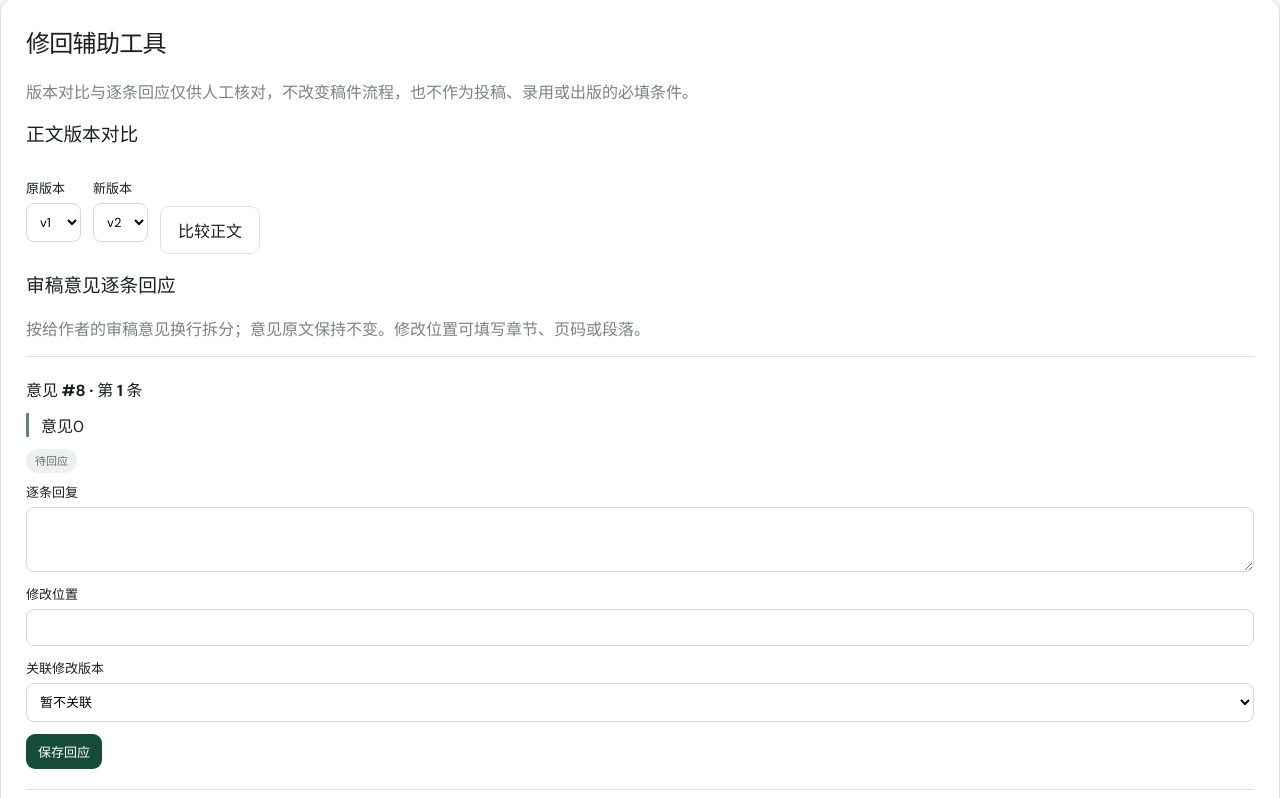
Test: saves one response without discarding another unsaved response
This screenshot has width=1280, height=798.
In the text box labelled "逐条回复": (640, 540) [26, 507, 1254, 572], type "我的回复0"
(page scrolled)
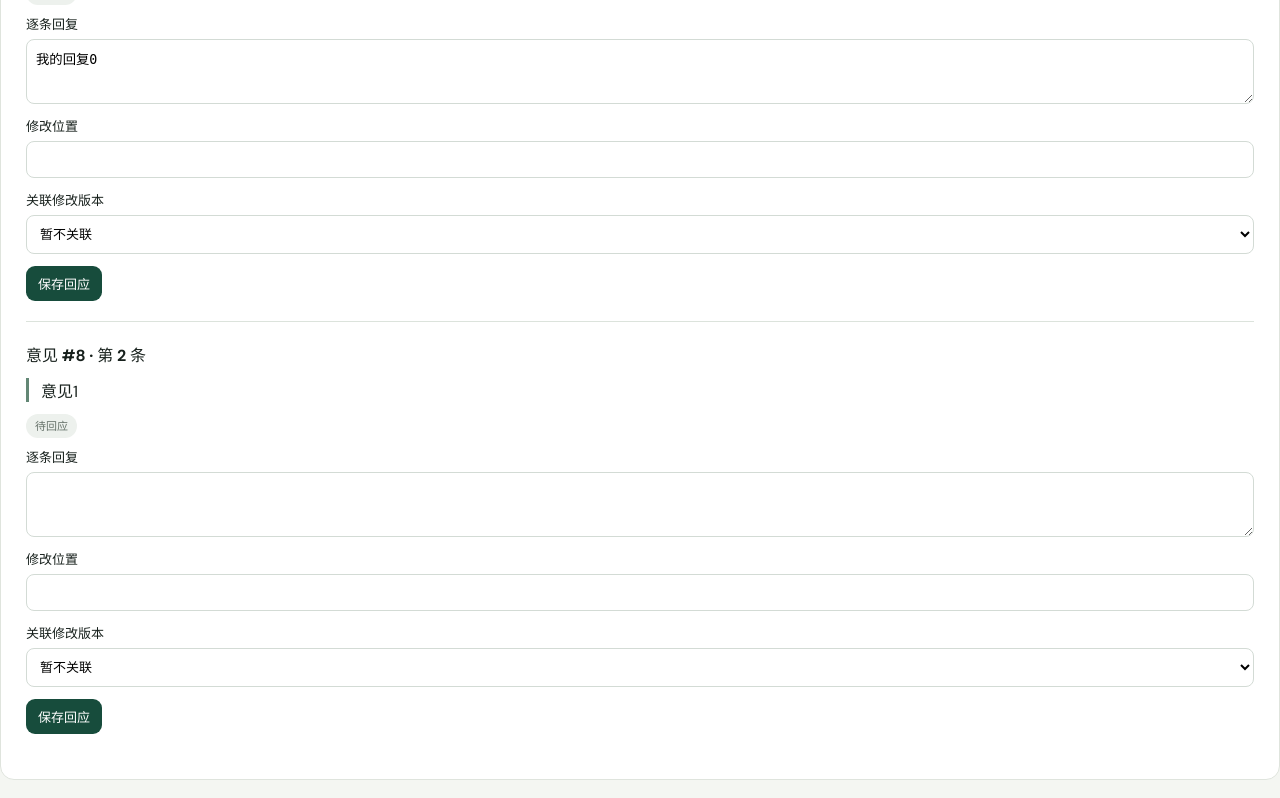
In the text box labelled "逐条回复" below "意见1": (640, 505) [26, 472, 1254, 537], type "我的回复1"
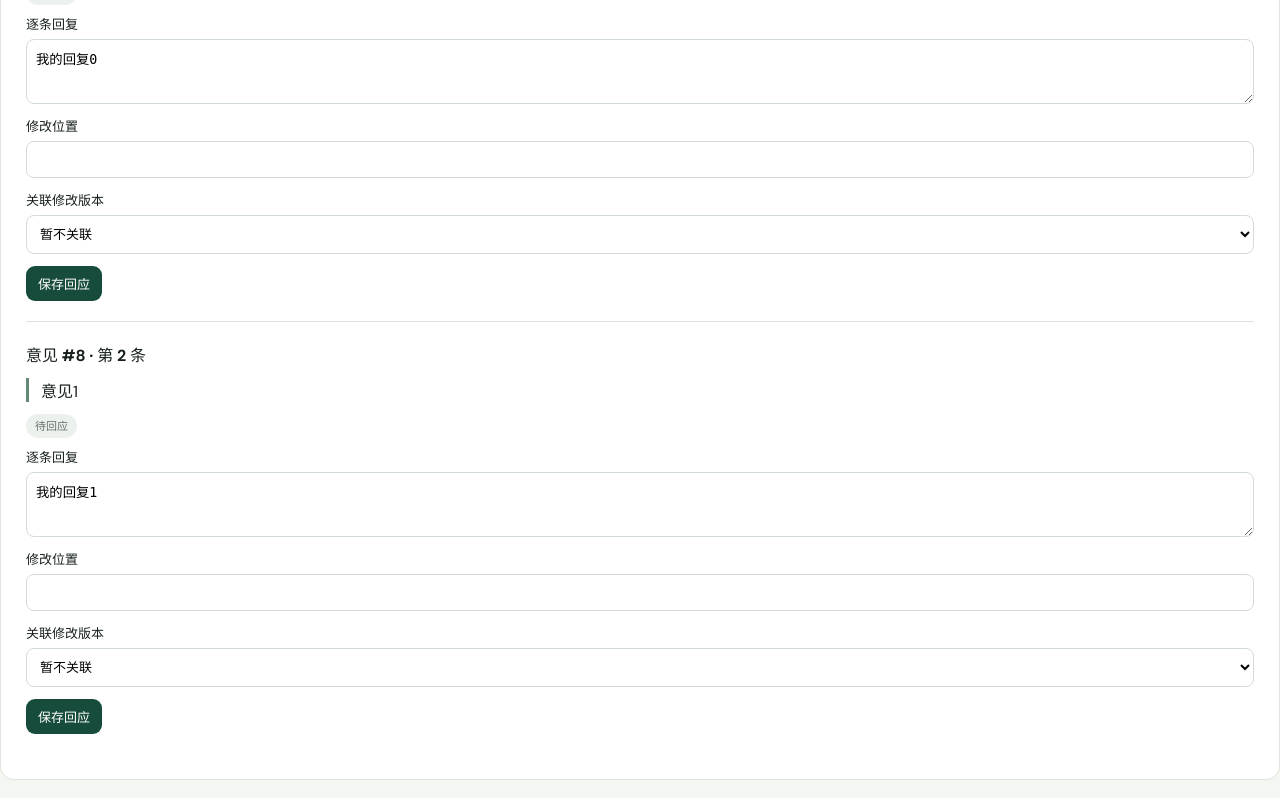
Click the button "保存回应" below "意见0": (64, 284) [26, 266, 102, 301]
(page scrolled)
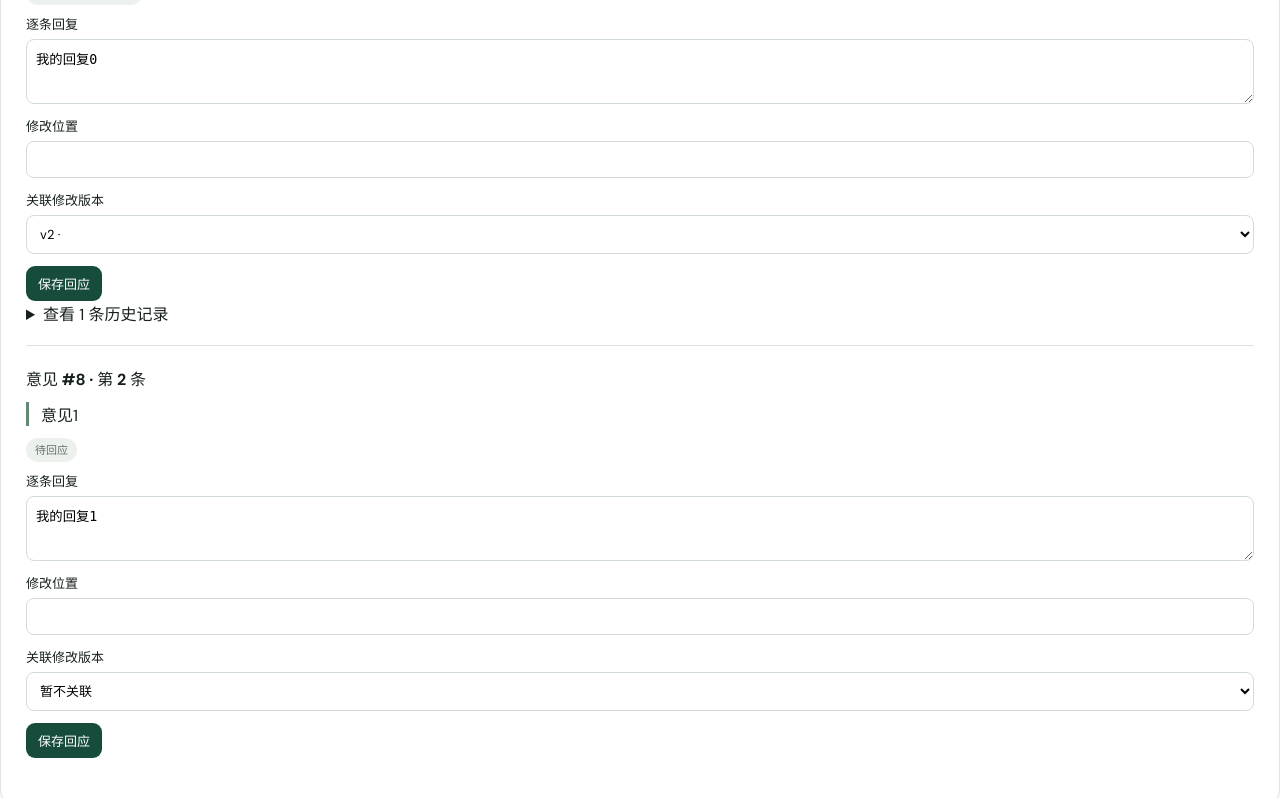
Now the text "查看 1 条历史记录" is shown, box [43, 304, 168, 325]
